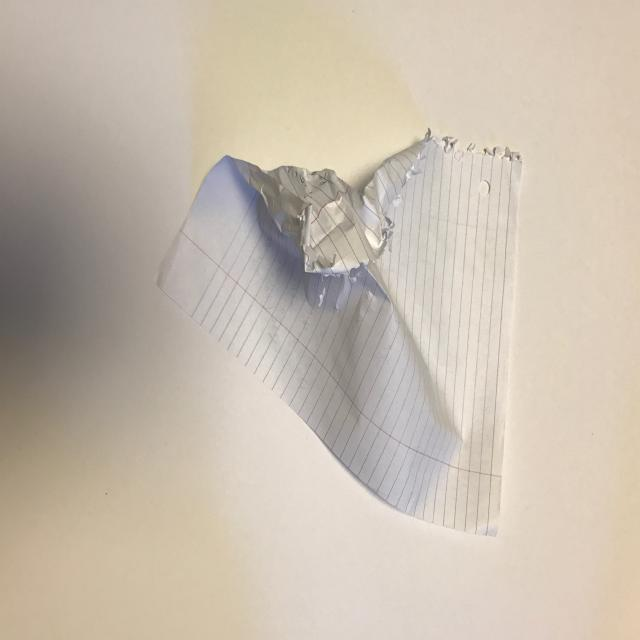paper: (153, 128, 523, 537)
